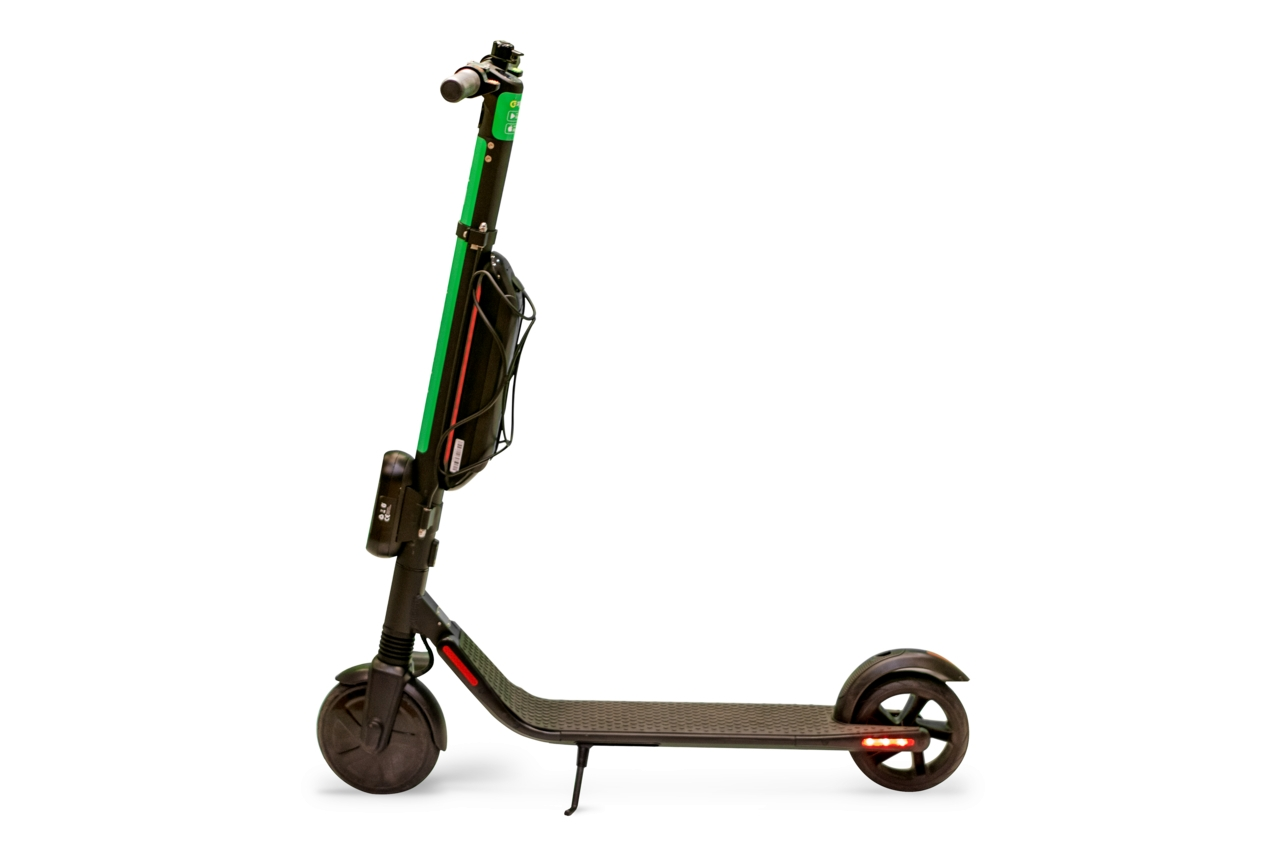scooter: (312, 35, 979, 812)
